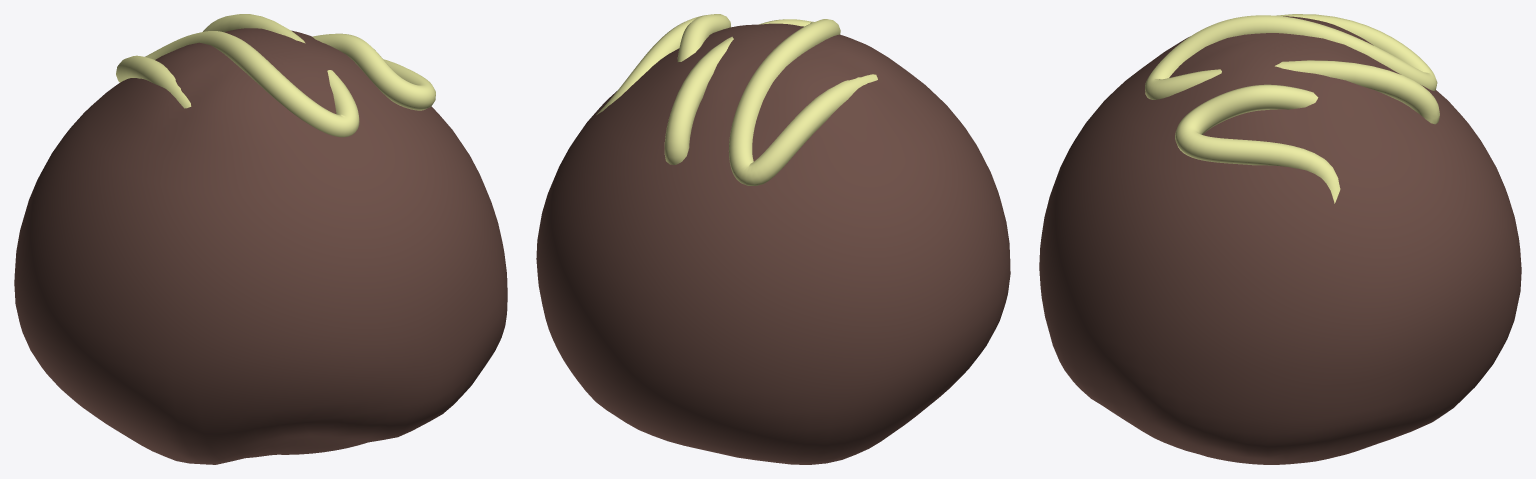
The model's file is chocolate3.fbx.
The picture shows the model from 3 angles, left to right: view 1: azimuth 30°, elevation 25°; view 2: azimuth 150°, elevation 25°; view 3: azimuth 270°, elevation 25°; orthographic projection. The views are drawn at different scales.
Parts seen in each view (by area): view 1: Sphere; view 2: Sphere; view 3: Sphere.
Part boxes in pixels (box(x1,y1,x2,y2)): Sphere: box(14, 14, 507, 464); Sphere: box(536, 14, 1010, 464); Sphere: box(1039, 14, 1521, 464).
Bounding box in the file's own units: 38.12 × 34.52 × 37.9.
